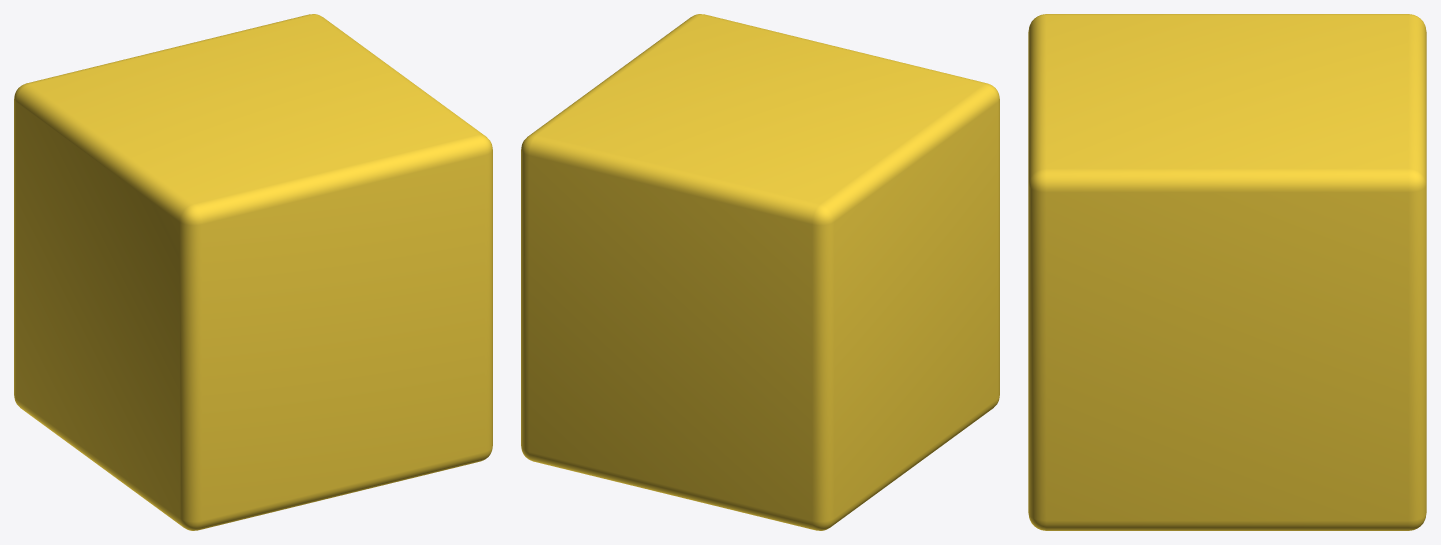
File: testcube.glb
The picture shows the model from 3 angles, left to right: view 1: azimuth 30°, elevation 25°; view 2: azimuth 150°, elevation 25°; view 3: azimuth 270°, elevation 25°; orthographic projection. The views are drawn at different scales.
Parts seen in each view (by area): view 1: Cube; view 2: Cube; view 3: Cube.
Part boxes in pixels (x1=…): Cube: x1=14, y1=14, x2=492, y2=530; Cube: x1=521, y1=14, x2=999, y2=530; Cube: x1=1028, y1=14, x2=1426, y2=530.
Bounding box in the file's own units: 2 × 2 × 2.
